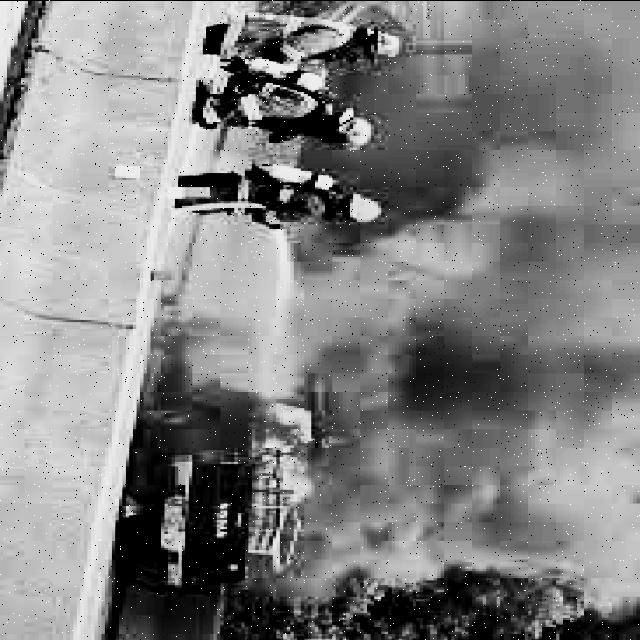api: (239, 385, 347, 511)
